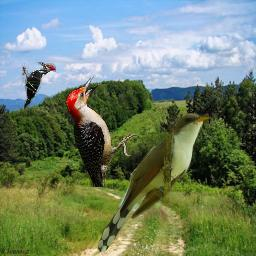Cuckoo: (98, 113, 211, 252)
Woodpecker: (66, 76, 139, 187), (22, 62, 56, 110)
